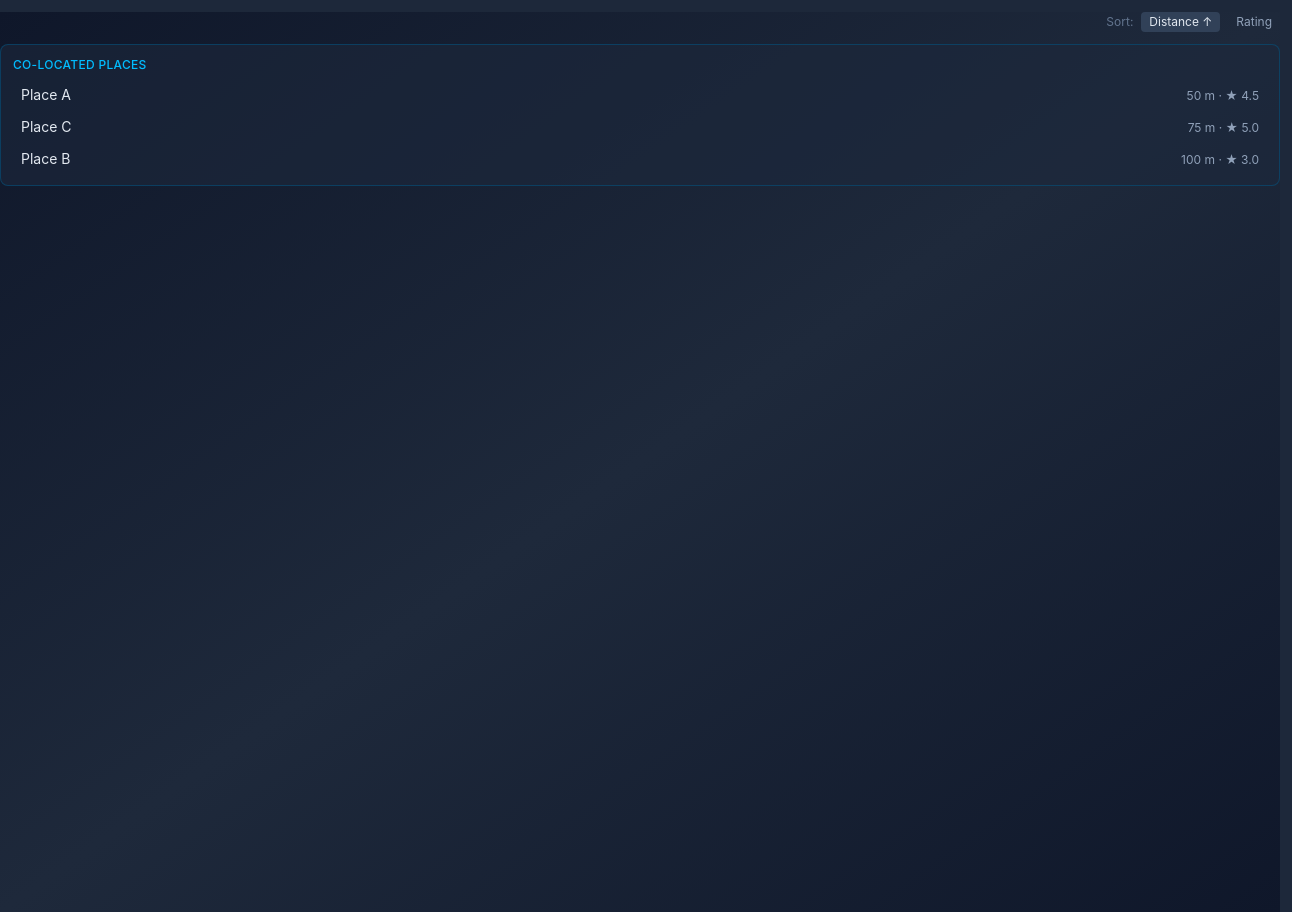
Test case: NearbyList sort toggle › flips rating to ascending when clicked again
This screenshot has width=1292, height=912.
Click the button "Rating" at [1254, 22], box [1228, 12, 1280, 32]
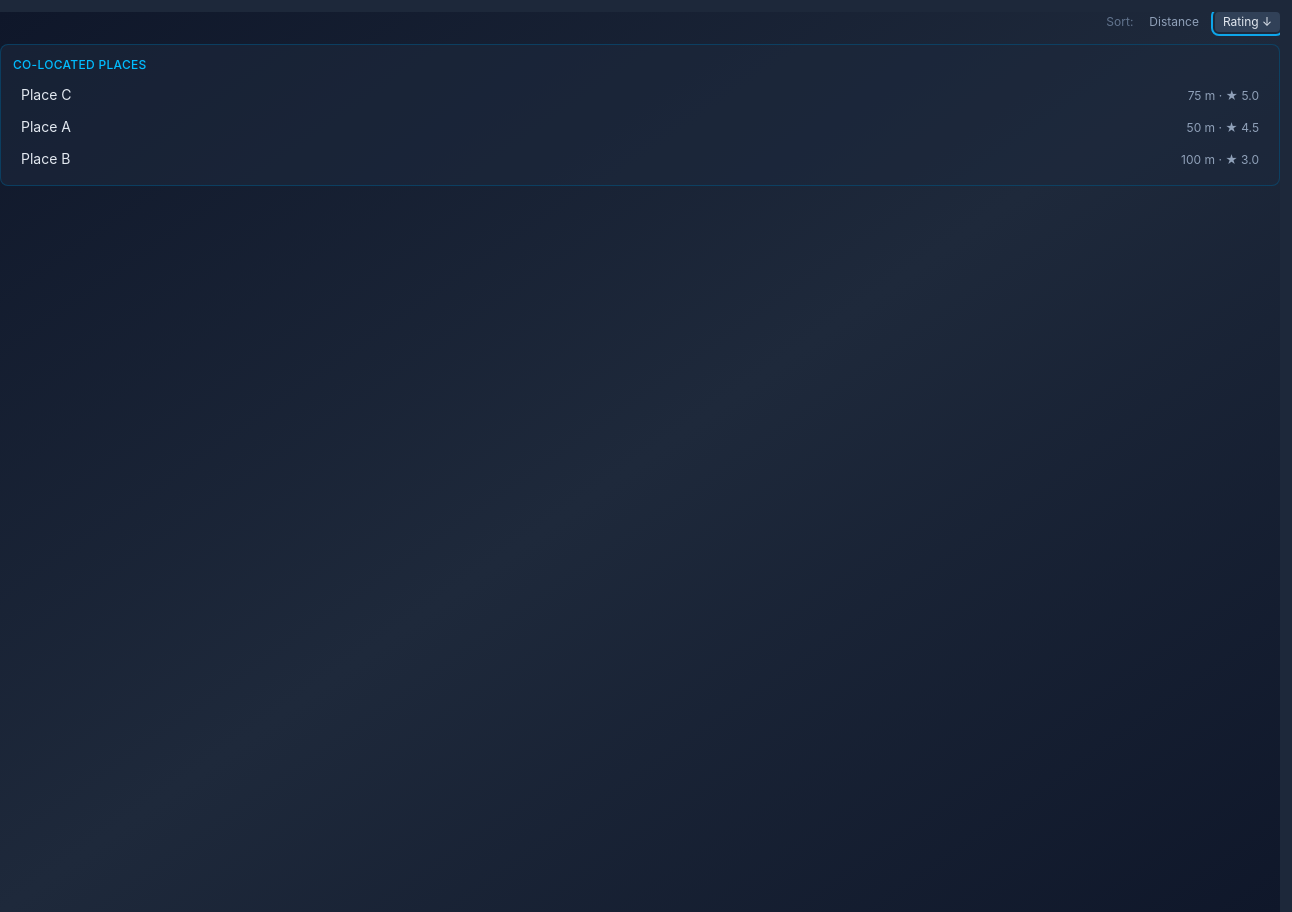
Click the button "Rating ↓" at [1247, 22], box [1215, 12, 1280, 32]
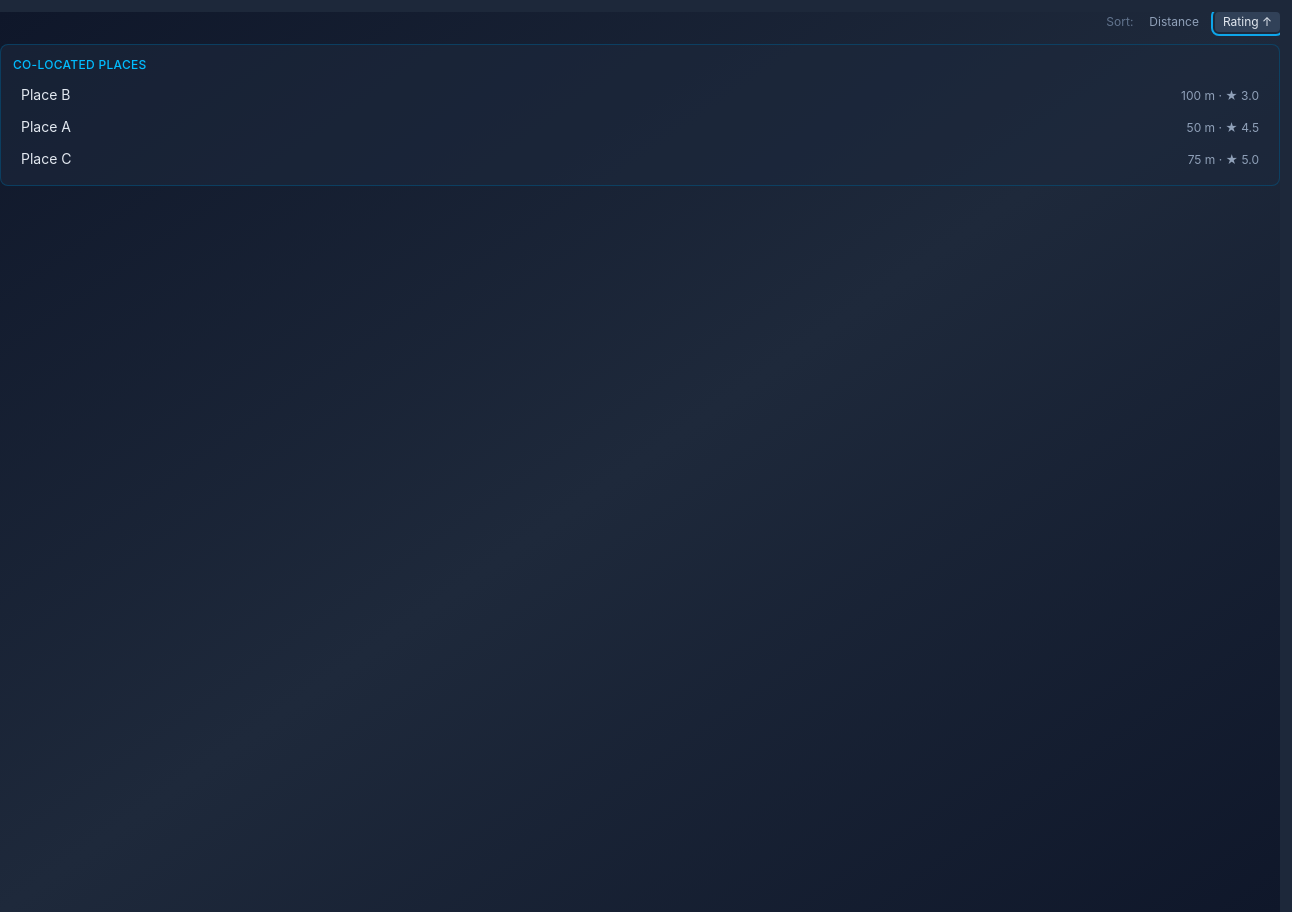
Check: the list item "Place B 100 m · ★ 3.0" is shown, box [13, 81, 1267, 109]
Check: the button "Rating ↑" is shown, box [1215, 12, 1280, 32]
